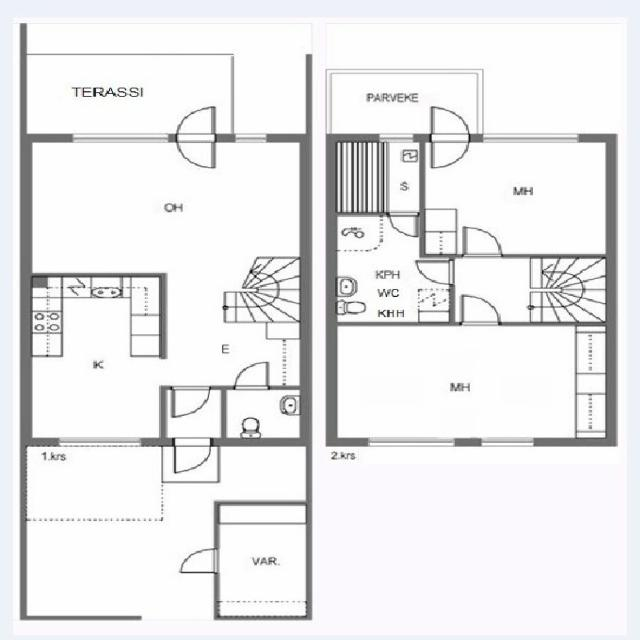door: (432, 107, 469, 142), (174, 437, 210, 472), (176, 134, 213, 168), (176, 108, 213, 142), (432, 134, 469, 168), (462, 295, 499, 326), (464, 228, 502, 258), (175, 386, 210, 415), (180, 549, 220, 573), (234, 362, 268, 390), (418, 262, 456, 284), (389, 212, 418, 236)
